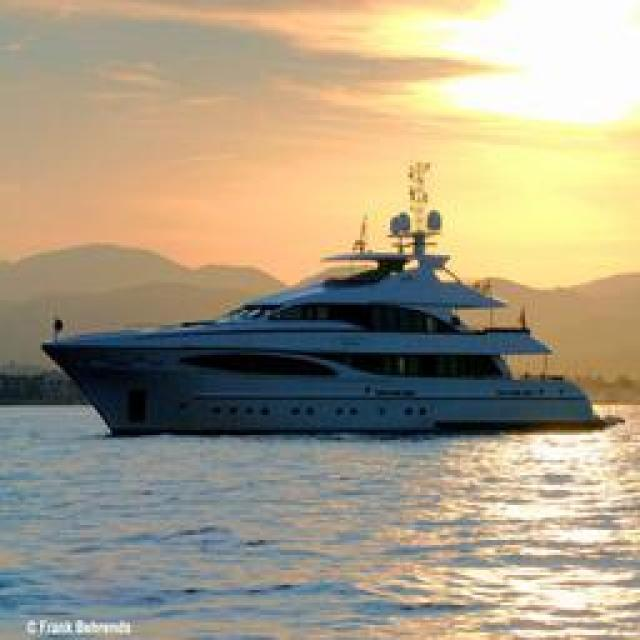CIV_Ship: (39, 184, 594, 436)
